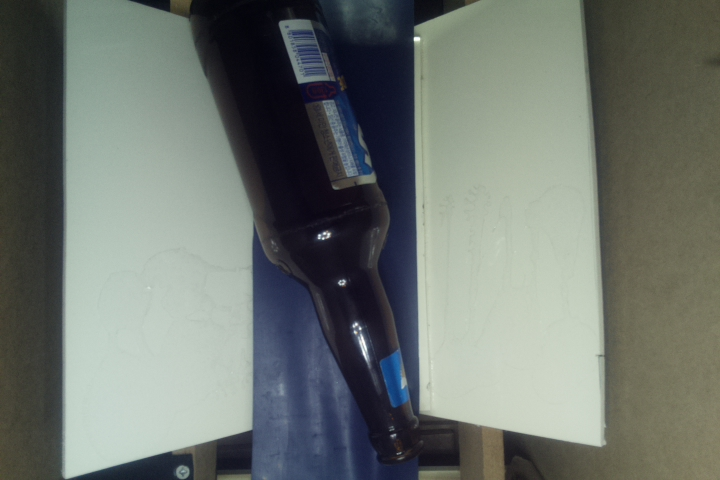makju: (192, 1, 428, 465)
